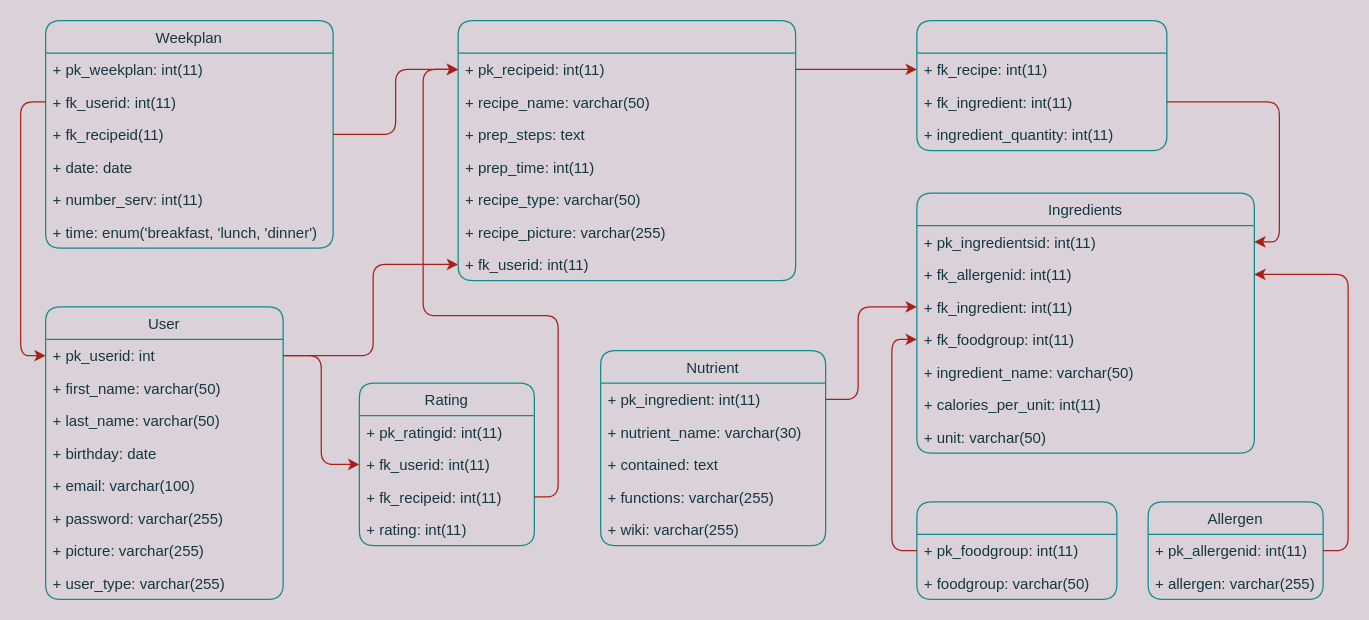
The diagram is 1369 pixels wide and 620 high, and some of its shapes have lost their labels. Here are the shapes that lost their labels. From the top down, the box of each, then its label:
(916, 19, 1167, 151): Recipeingredient
(457, 19, 796, 281): Recipes
(916, 501, 1117, 599): Foodgroups
